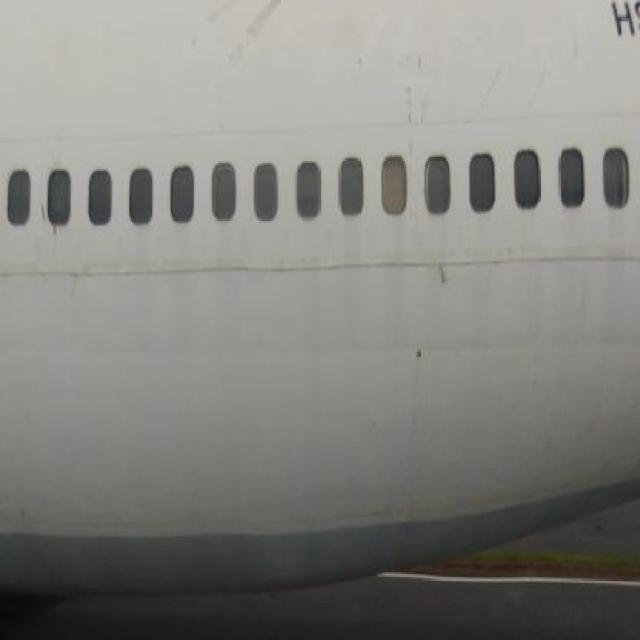Scartch: (192, 1, 318, 82), (400, 49, 435, 157), (430, 258, 468, 300), (405, 332, 433, 378)
